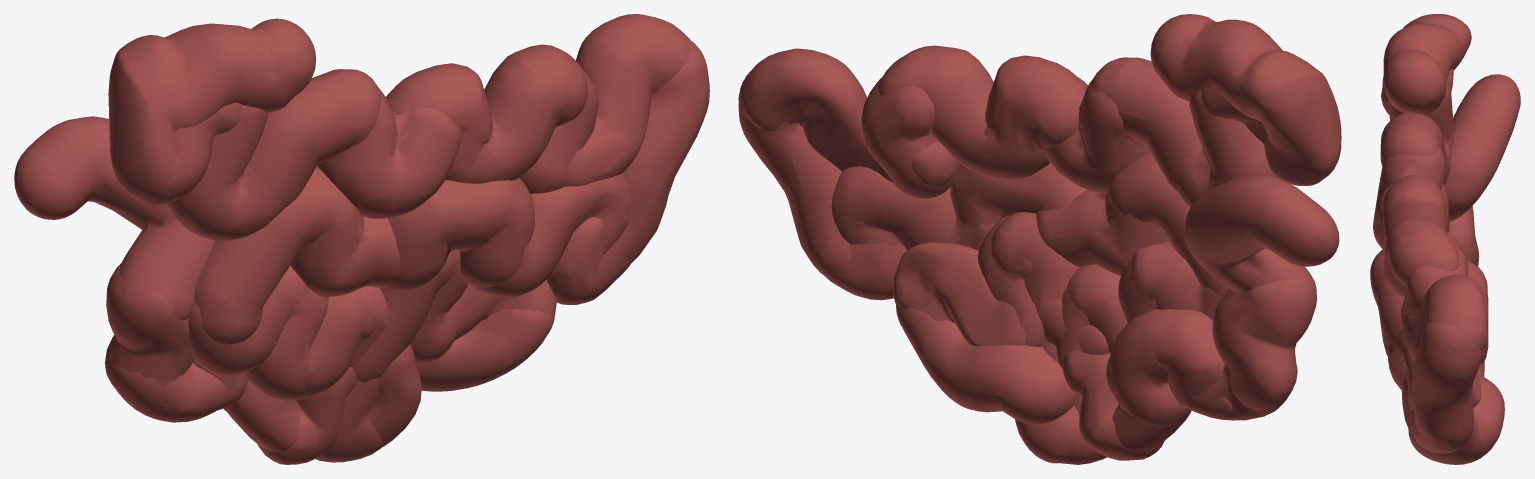
Rendered from FMA7208.glb.
The picture shows the model from 3 angles, left to right: view 1: azimuth 30°, elevation 25°; view 2: azimuth 150°, elevation 25°; view 3: azimuth 270°, elevation 25°; orthographic projection. The views are drawn at different scales.
Parts seen in each view (by area): view 1: FMA7208; view 2: FMA7208; view 3: FMA7208.
Boxes of the visible parts, left/top/right/bottom form: FMA7208: left=14, top=14, right=709, bottom=464; FMA7208: left=738, top=14, right=1341, bottom=464; FMA7208: left=1370, top=14, right=1520, bottom=464.
Bounding box in the file's own units: 0.2016 × 0.1424 × 0.0524.
